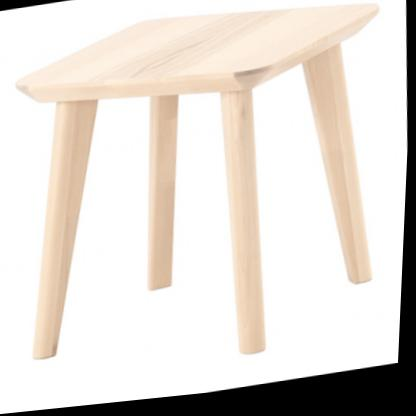Table: (0, 0, 401, 395)
